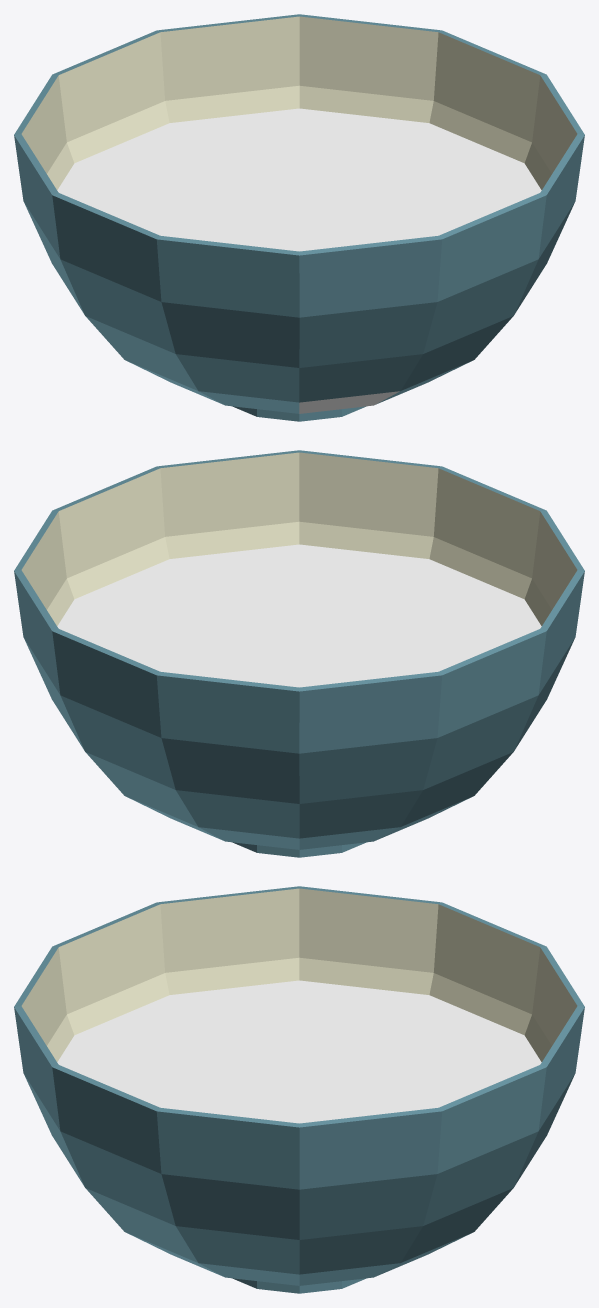
File: palto.fbx
3 views of the same model, one above another, from view 1: azimuth 30°, elevation 25°; view 2: azimuth 150°, elevation 25°; view 3: azimuth 270°, elevation 25° (orthographic).
Parts seen in each view (by area): view 1: node-0.001; view 2: node-0.001; view 3: node-0.001.
Boxes of the visible parts, x1,y1,x2,y2 form: node-0.001: (14, 14, 584, 421); node-0.001: (14, 450, 584, 857); node-0.001: (14, 886, 584, 1293).
Bounding box in the file's own units: 205 × 100 × 205.
